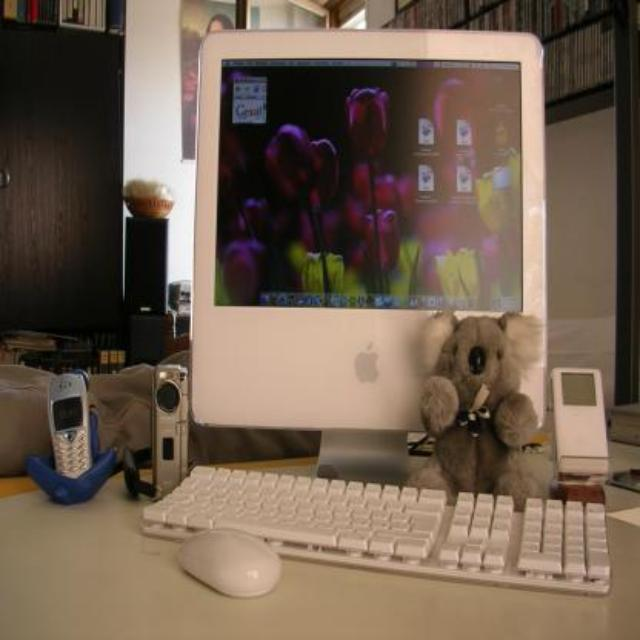Computer-Keyboard: (124, 466, 612, 552)
Computer-Mouse: (178, 526, 286, 614)
Flat-Panel-Monitor: (169, 6, 561, 450)
